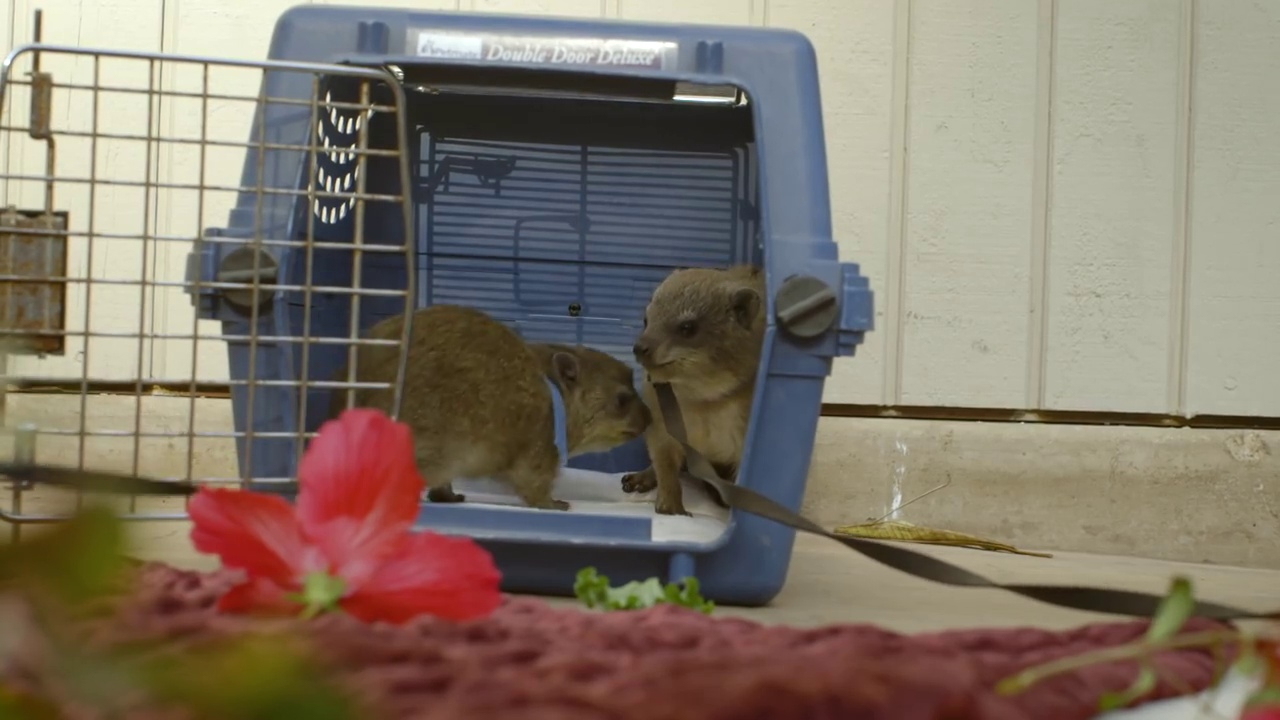Rock Hyrex: (332, 301, 649, 520), (624, 259, 792, 542)
